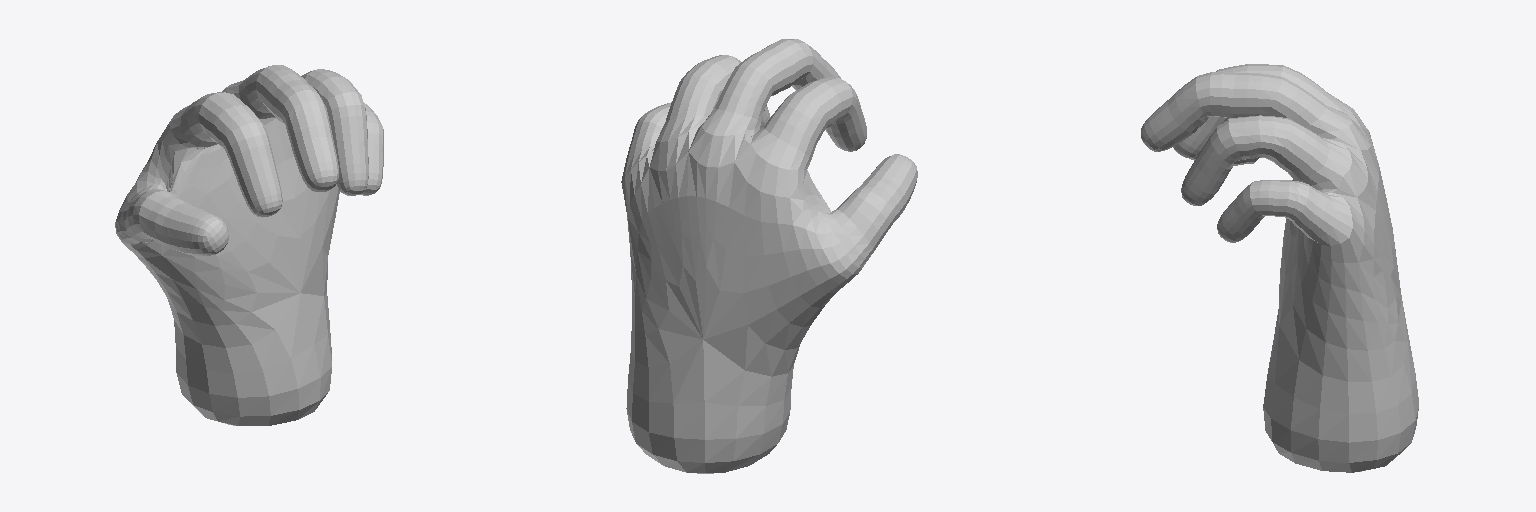
The model's file is handanimatsion45.obj.
The picture shows the model from 3 angles: view 1: azimuth 30°, elevation 25°; view 2: azimuth 150°, elevation 25°; view 3: azimuth 270°, elevation 25°; orthographic projection.
Parts seen in each view (by area): view 1: Cube; view 2: Cube; view 3: Cube.
Boxes of the visible parts, x1,y1,x2,y2 form: Cube: [115, 65, 383, 425]; Cube: [621, 39, 917, 473]; Cube: [1141, 64, 1418, 472].
Size of the model in its own units: 3.18 by 4.71 by 3.15.